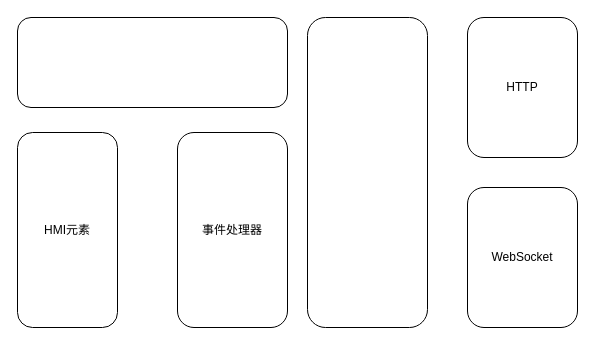
The diagram is 595 pixels wide and 345 high, and some of its shapes have lost their labels. The centre of each missing label's shape, as x and y in pixels:
"HMIRunTimeViewer" goes at [152,62].
"数据集" goes at [367,172].
